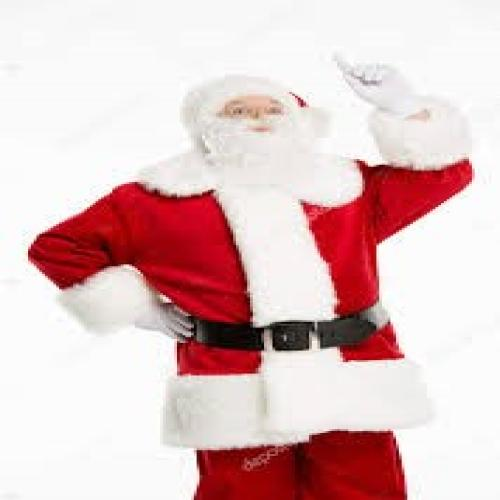Santa: (26, 51, 477, 498)
